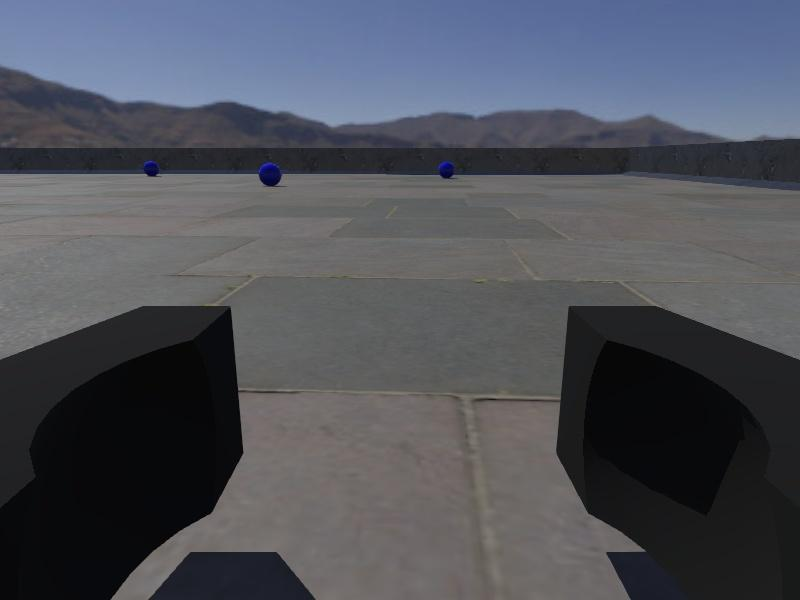blue ball: (258, 162, 282, 187), (437, 161, 455, 178), (144, 161, 158, 176)
